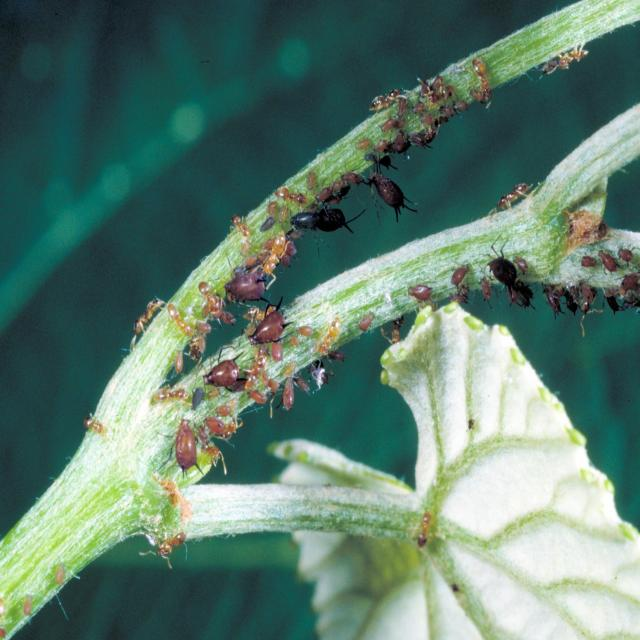Aphid-Grouped-: (138, 238, 335, 469)
Aphid-Grown-: (158, 412, 201, 478), (249, 291, 291, 352), (201, 344, 247, 396), (486, 241, 519, 292), (447, 257, 477, 289), (274, 375, 298, 414), (283, 206, 318, 232), (407, 278, 437, 303), (468, 50, 489, 80), (579, 251, 599, 272)
